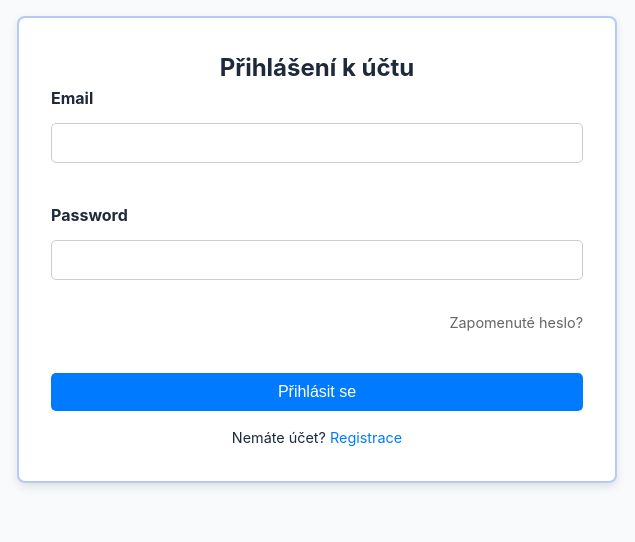
it: Login Component › handles login error
The width and height of the screenshot is (635, 542).
Note: Fill in the form
Type "test@example.com" into the field labelled "Email".
click(317, 143); type("test@example.com")  # box [51, 123, 583, 163]
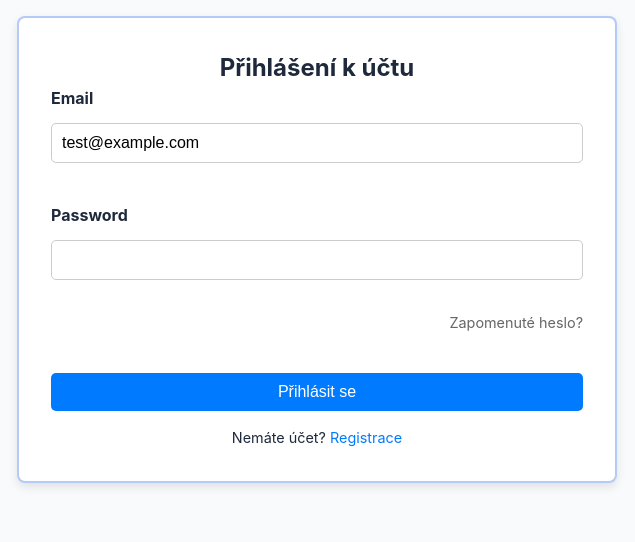
Type "wrong-password" into the password field labelled "Password".
click(317, 260); type("wrong-password")  # box [51, 240, 583, 280]
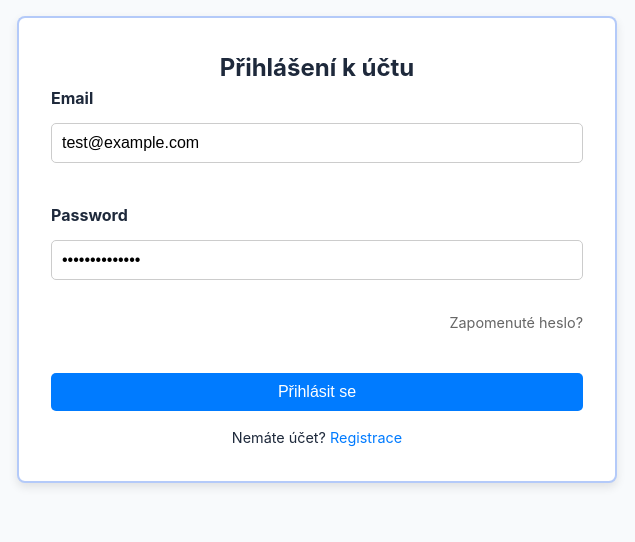
Note: Submit the form
Click the button.
click(317, 392)  # box [51, 373, 583, 411]
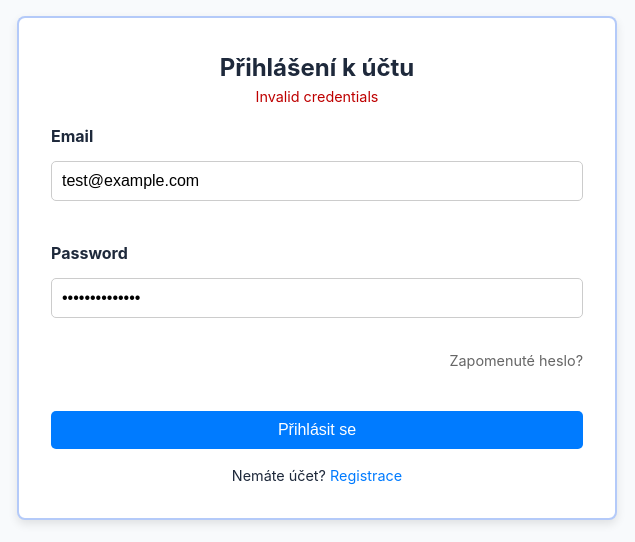
expect the text "Invalid credentials" is shown: met, box [256, 88, 378, 105]
